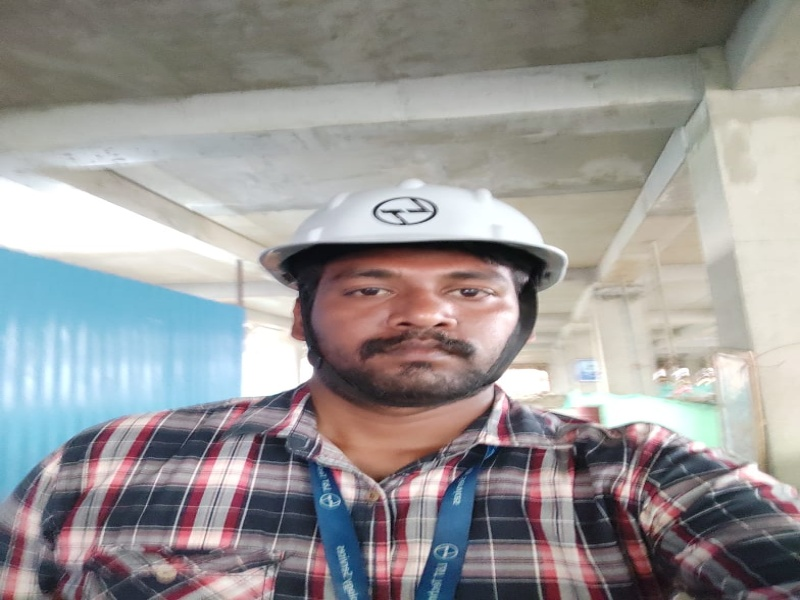Face: (253, 167, 577, 300)
